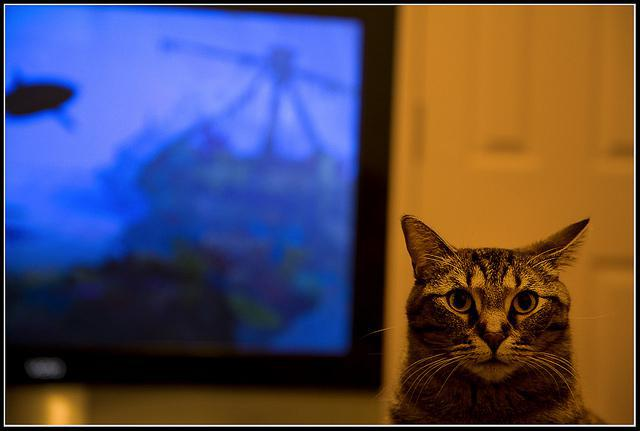tv: (4, 6, 404, 395)
